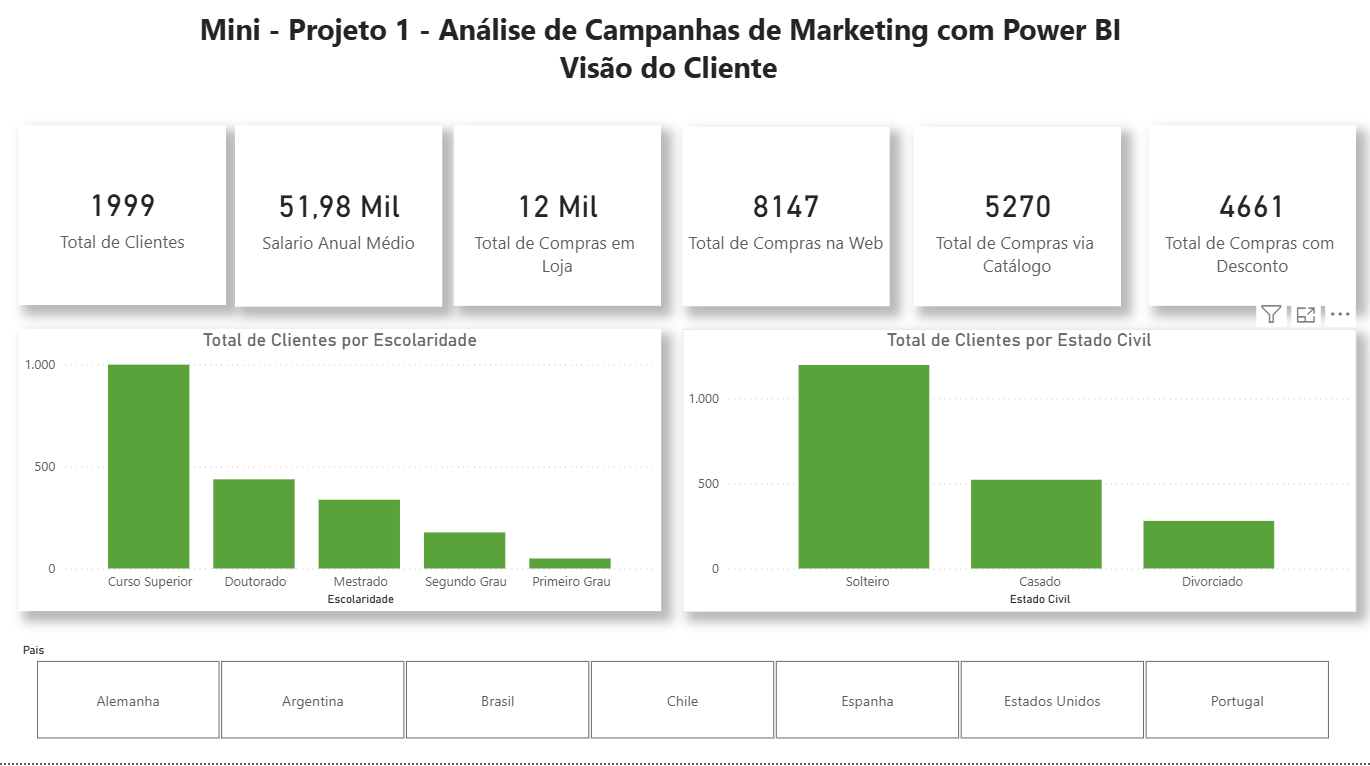

This screenshot's page, from the dashboard's own definition file:
{"tool":"powerbi","page":{"name":"Visão Cliente","canvas":[1280,720],"ordinal":0},"visuals":[{"type":"card","fields":{"Values":["CountNonNull(Dados Marketing.ID)"]},"box":[22.1,126.7,193,167.4],"z":0},{"type":"card","fields":{"Values":["Avg(Dados Marketing.Salario Anual)"]},"box":[223.3,126.7,193,168.6],"z":1000},{"type":"card","fields":{"Values":["Sum(Dados Marketing.Numero de Compras na Loja)"]},"box":[427.2,126.9,192.9,168.3],"z":2000},{"type":"card","fields":{"Values":["Sum(Dados Marketing.Numero de Compras na Web)"]},"box":[639.5,128.2,192.9,167],"z":3000},{"type":"card","fields":{"Values":["Sum(Dados Marketing.Numero de Compras com Desconto)"]},"box":[1073.1,126.9,192.9,168.3],"z":4000},{"type":"card","fields":{"Values":["Sum(Dados Marketing.Numero de Compras via Catalogo)"]},"box":[854.4,128.2,192.9,167],"z":5000},{"type":"textbox","box":[163.1,14.2,912.6,89.3],"z":6000},{"type":"clusteredColumnChart","title":"Total de Clientes por Estado Civil","fields":{"Category":["Dados Marketing.Estado Civil"],"Y":["CountNonNull(Dados Marketing.ID)"]},"box":[639.5,315.9,626.5,262.8],"z":7000},{"type":"clusteredColumnChart","title":"Total de Clientes por Escolaridade","fields":{"Y":["CountNonNull(Dados Marketing.ID)"],"Category":["Dados Marketing.Escolaridade"]},"box":[22.1,316.3,597.7,262.8],"z":8000},{"type":"slicer","fields":{"Values":["Dados Marketing.Pais"]},"box":[12.9,603.2,1251.8,101],"z":9000}]}

Visuals, with their boxes in screenshot pixels (x1, y1, x2, y2), scaled from the page's 1280x720 canvas onto the 1370x766 screenshot:
card - CountNonNull(Dados Marketing.ID): Rect(24, 135, 230, 313)
card - Avg(Dados Marketing.Salario Anual): Rect(239, 135, 446, 314)
card - Sum(Dados Marketing.Numero de Compras na Loja): Rect(457, 135, 664, 314)
card - Sum(Dados Marketing.Numero de Compras na Web): Rect(684, 136, 891, 314)
card - Sum(Dados Marketing.Numero de Compras com Desconto): Rect(1149, 135, 1355, 314)
card - Sum(Dados Marketing.Numero de Compras via Catalogo): Rect(914, 136, 1121, 314)
textbox: Rect(175, 15, 1151, 110)
"Total de Clientes por Estado Civil" clusteredColumnChart: Rect(684, 336, 1355, 616)
"Total de Clientes por Escolaridade" clusteredColumnChart: Rect(24, 337, 663, 616)
slicer - Dados Marketing.Pais: Rect(14, 642, 1354, 749)
